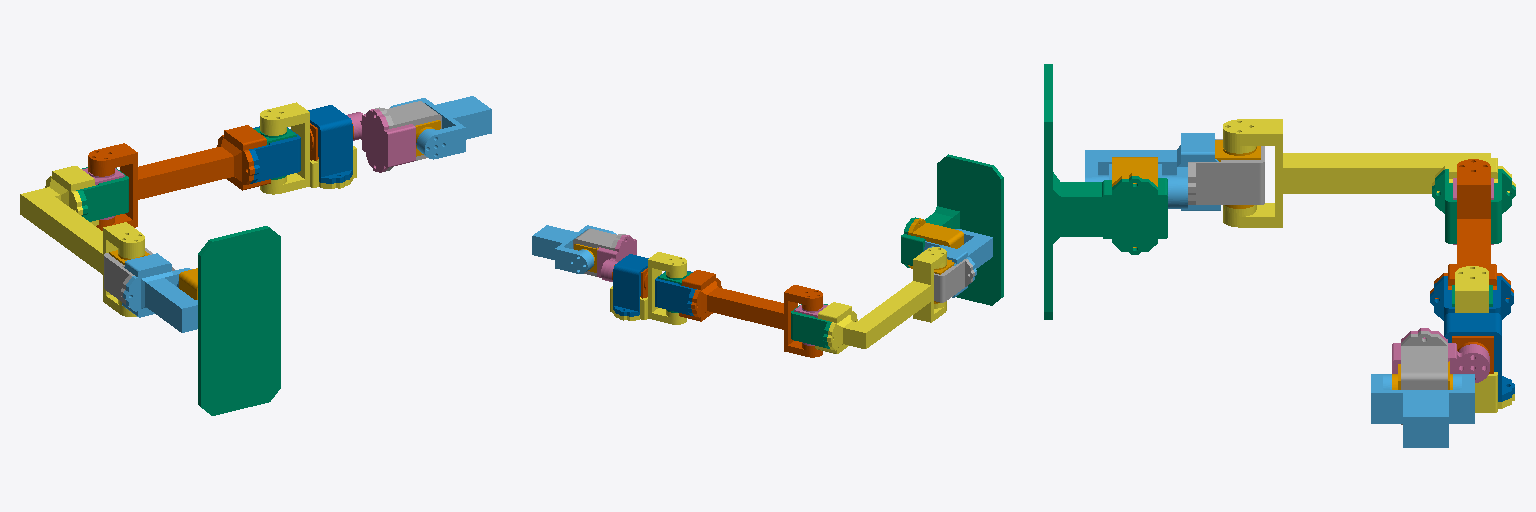
--- What the picture shows (computed from the rendered views, not written in the file) ---
The picture shows the robot from 3 angles, left to right: view 1: azimuth 30°, elevation 25°; view 2: azimuth 150°, elevation 25°; view 3: azimuth 270°, elevation 25°; orthographic projection.
Model V0.01 with 19 links and 18 joints (6 revolute, 12 fixed), rooted at 1-clamp, posed every joint at zero.
Links seen in each view (by area): view 1: 1-holder, 4-holder, 3-holder, 2-holder, 7-horn, 5-holder, 6-holder, 5-clamp, 4-clamp, 3-clamp, 6-clamp, 2-clamp; view 2: 1-holder, 3-holder, 4-holder, 7-horn, 5-holder, 5-clamp, 2-holder, 2-clamp, 4-clamp, 3-clamp, 1-clamp, 6-holder (+1 smaller); view 3: 3-holder, 1-holder, 7-horn, 4-holder, 2-holder, 2-clamp, 6-clamp, 5-holder, 3-clamp, 5-clamp, 6-holder, 4-clamp (+3 smaller).
Link boxes in pixels (x1,y1,x2,y2): 1-holder: (198,226,280,415); 4-holder: (88,125,270,230); 3-holder: (20,166,144,316); 2-holder: (122,253,197,332); 7-horn: (390,96,491,159); 5-holder: (260,102,356,194); 6-holder: (347,109,415,172); 5-clamp: (308,105,352,183); 4-clamp: (249,126,300,183); 3-clamp: (76,167,128,221); 6-clamp: (375,101,441,171); 2-clamp: (104,248,174,307); 1-holder: (901,154,1003,305); 3-holder: (815,247,946,353); 4-holder: (679,270,822,357); 7-horn: (532,225,616,273); 5-holder: (610,252,686,324); 5-clamp: (613,254,648,316); 2-holder: (919,229,992,297); 2-clamp: (934,259,974,302); 4-clamp: (655,271,696,315); 3-clamp: (791,304,831,348); 1-clamp: (908,218,963,268); 6-holder: (597,235,636,281); 3-holder: (1223,119,1515,227); 1-holder: (1044,64,1167,319); 7-horn: (1371,374,1474,447); 4-holder: (1430,159,1513,298); 2-holder: (1085,133,1220,210); 2-clamp: (1188,139,1264,204); 6-clamp: (1401,331,1447,424); 5-holder: (1455,266,1514,412); 3-clamp: (1432,169,1515,243); 5-clamp: (1444,313,1514,401); 6-holder: (1392,328,1489,382); 4-clamp: (1430,276,1513,320).
Bounding box of the posed robot: 0.3992 × 0.2844 × 0.1467 m (x, y, z).
Meshes: 19 distinct files referenced, 19 mesh visuals loaded (19 binary STL).

URDF robot description (V0.01):
<?xml version='1.0' encoding='utf-8'?>
<robot name="V0.01">
    <link name="1-clamp">
        <inertial>
            <origin xyz="-0.01011633177640657 0.01995 0.012349999999998097" rpy="0.0 0.0 0.0" />
            <mass value="0.09978554550837347" />
            <inertia ixx="2.8952195540493082e-05" iyy="4.515825456914321e-05" izz="2.8802758876856415e-05" ixy="-3.3881317890172014e-21" iyz="3.3881317890172014e-21" ixz="4.6095532989579024e-18" />
        </inertial>
        <visual name="1-clamp_visual">
            <origin xyz="0.0 0.0 0.0" rpy="0.0 0.0 0.0" />
            <geometry>
                <mesh filename="meshes/1-clamp.stl" scale="0.001 0.001 0.001" />
            </geometry>
        </visual>
        <collision name="1-clamp_collision">
            <origin xyz="0.0 0.0 0.0" rpy="0.0 0.0 0.0" />
            <geometry>
                <mesh filename="meshes/1-clamp.stl" scale="0.001 0.001 0.001" />
            </geometry>
        </collision>
    </link>
    <link name="1-servo">
        <inertial>
            <origin xyz="0.022668652600844448 0.013384817444929977 0.0" rpy="0.0 -0.0 0.0" />
            <mass value="0.3033412377430849" />
            <inertia ixx="4.4115613291432376e-05" iyy="6.884216194152031e-05" izz="8.178619368144822e-05" ixy="-9.243992458147531e-07" iyz="0.0" ixz="1.3552527156068805e-20" />
        </inertial>
        <visual name="1-servo_visual">
            <origin xyz="0.0275 0.03395 0.012350000000000002" rpy="3.141592653589793 -0.0 0.0" />
            <geometry>
                <mesh filename="meshes/1-servo.stl" scale="0.001 0.001 0.001" />
            </geometry>
        </visual>
        <collision name="1-servo_collision">
            <origin xyz="0.0275 0.03395 0.012350000000000002" rpy="3.141592653589793 -0.0 0.0" />
            <geometry>
                <mesh filename="meshes/1-servo.stl" scale="0.001 0.001 0.001" />
            </geometry>
        </collision>
    </link>
    <link name="3-clamp">
        <inertial>
            <origin xyz="0.026616328864181887 -0.025350002912221684 -3.9968028886505636e-16" rpy="0.0 -0.0 0.0" />
            <mass value="0.09978554550837337" />
            <inertia ixx="2.8952195540500082e-05" iyy="2.8802758876854575e-05" izz="4.515825456909064e-05" ixy="-3.333921680392926e-18" iyz="-1.1763593571467723e-17" ixz="6.037650848028653e-18" />
        </inertial>
        <visual name="3-clamp_visual">
            <origin xyz="-0.10805000291222866 -0.20816977708777668 -0.010500000447035276" rpy="7.771561172375865e-16 -2.113062989360782e-15 -1.5707963267948921" />
            <geometry>
                <mesh filename="meshes/3-clamp.stl" scale="0.001 0.001 0.001" />
            </geometry>
        </visual>
        <collision name="3-clamp_collision">
            <origin xyz="-0.10805000291222866 -0.20816977708777668 -0.010500000447035276" rpy="7.771561172375865e-16 -2.113062989360782e-15 -1.5707963267948921" />
            <geometry>
                <mesh filename="meshes/3-clamp.stl" scale="0.001 0.001 0.001" />
            </geometry>
        </collision>
    </link>
    <link name="3-holder">
        <inertial>
            <origin xyz="0.004904846659727005 0.08187908906454737 -0.01780984914393404" rpy="0.0 -0.0 0.0" />
            <mass value="0.6053159680782471" />
            <inertia ixx="0.0017174592546749384" iyy="0.00018649161391586877" izz="0.0017005174574323996" ixy="-0.00017713765140459125" iyz="9.229700061045416e-06" ixz="1.9297077568748627e-06" />
        </inertial>
        <visual name="3-holder_visual">
            <origin xyz="-0.0838348929122288 -0.041584887087776516 -0.02845000044703527" rpy="8.881784197000973e-16 -2.3496457565353582e-15 -1.5707963267948923" />
            <geometry>
                <mesh filename="meshes/3-holder.stl" scale="0.001 0.001 0.001" />
            </geometry>
        </visual>
        <collision name="3-holder_collision">
            <origin xyz="-0.0838348929122288 -0.041584887087776516 -0.02845000044703527" rpy="8.881784197000973e-16 -2.3496457565353582e-15 -1.5707963267948923" />
            <geometry>
                <mesh filename="meshes/3-holder.stl" scale="0.001 0.001 0.001" />
            </geometry>
        </collision>
    </link>
    <link name="4-clamp">
        <inertial>
            <origin xyz="0.02661633177641333 -0.02534999865889823 -2.2351743567128325e-10" rpy="0.0 -0.0 0.0" />
            <mass value="0.09978554550837349" />
            <inertia ixx="2.8952195540538246e-05" iyy="2.8802758876845993e-05" izz="4.5158254569134006e-05" ixy="2.2985086056692694e-17" iyz="-4.445228907190568e-18" ixz="-5.366800753803247e-18" />
        </inertial>
        <visual name="4-clamp_visual">
            <origin xyz="0.06296977417555906 0.1142500013411045 0.01055000022351817" rpy="-3.1415926535897896 2.886579864025275e-15 2.9999587652126956e-15" />
            <geometry>
                <mesh filename="meshes/4-clamp.stl" scale="0.001 0.001 0.001" />
            </geometry>
        </visual>
        <collision name="4-clamp_collision">
            <origin xyz="0.06296977417555906 0.1142500013411045 0.01055000022351817" rpy="-3.1415926535897896 2.886579864025275e-15 2.9999587652126956e-15" />
            <geometry>
                <mesh filename="meshes/4-clamp.stl" scale="0.001 0.001 0.001" />
            </geometry>
        </collision>
    </link>
    <link name="4-holder">
        <inertial>
            <origin xyz="0.06444860833955965 -0.00012847069117800203 -0.01774705175856157" rpy="0.0 -0.0 0.0" />
            <mass value="0.47983450816069384" />
            <inertia ixx="0.00012625064179755396" iyy="0.0010110873650053336" izz="0.0009404225454982436" ixy="3.6568094264055623e-06" iyz="-2.9105058382496587e-08" ixz="8.13322214573731e-06" />
        </inertial>
        <visual name="4-holder_visual">
            <origin xyz="0.1830848841755587 -0.14033489134110486 -0.028450000223518124" rpy="1.2722154311270206e-15 -1.2767564783188772e-15 -3.4995483853165215e-15" />
            <geometry>
                <mesh filename="meshes/4-holder.stl" scale="0.001 0.001 0.001" />
            </geometry>
        </visual>
        <collision name="4-holder_collision">
            <origin xyz="0.1830848841755587 -0.14033489134110486 -0.028450000223518124" rpy="1.2722154311270206e-15 -1.2767564783188772e-15 -3.4995483853165215e-15" />
            <geometry>
                <mesh filename="meshes/4-holder.stl" scale="0.001 0.001 0.001" />
            </geometry>
        </collision>
    </link>
    <link name="3-servo">
        <inertial>
            <origin xyz="0.013384817444929656 -2.9122199052267207e-09 0.022668655513069274" rpy="4.39573844726499e-93 -0.0 0.0" />
            <mass value="0.30334123774308486" />
            <inertia ixx="6.884216194145455e-05" iyy="8.178619368146925e-05" izz="4.411561329151388e-05" ixy="-3.8272336688738307e-17" iyz="3.7513395167998453e-17" ixz="-9.243992458164234e-07" />
        </inertial>
        <visual name="3-servo_visual">
            <origin xyz="0.0023499999999997347 -0.1829500029122266 0.14680000291222847" rpy="-1.570796326794897 5.021645928919806e-15 -1.5707963267948946" />
            <geometry>
                <mesh filename="meshes/3-servo.stl" scale="0.001 0.001 0.001" />
            </geometry>
        </visual>
        <collision name="3-servo_collision">
            <origin xyz="0.0023499999999997347 -0.1829500029122266 0.14680000291222847" rpy="-1.570796326794897 5.021645928919806e-15 -1.5707963267948946" />
            <geometry>
                <mesh filename="meshes/3-servo.stl" scale="0.001 0.001 0.001" />
            </geometry>
        </collision>
    </link>
    <link name="2-clamp">
        <inertial>
            <origin xyz="0.02534999551665167 0.026616331776406554 -2.2351748674154237e-10" rpy="0.0 -0.0 5.300260399008595e-96" />
            <mass value="0.09978554550837361" />
            <inertia ixx="2.8802758876891204e-05" iyy="2.895219554048233e-05" izz="4.5158254569179325e-05" ixy="-4.87890977618477e-18" iyz="-1.3552527156068805e-20" ixz="1.4907779871675686e-19" />
        </inertial>
        <visual name="2-clamp_visual">
            <origin xyz="0.06839999551665468 -0.05204999999999996 -0.012000000223517826" rpy="-7.855721281318744e-17 8.881784197001016e-16 -1.1584019516324405e-16" />
            <geometry>
                <mesh filename="meshes/2-clamp.stl" scale="0.001 0.001 0.001" />
            </geometry>
        </visual>
        <collision name="2-clamp_collision">
            <origin xyz="0.06839999551665468 -0.05204999999999996 -0.012000000223517826" rpy="-7.855721281318744e-17 8.881784197001016e-16 -1.1584019516324405e-16" />
            <geometry>
                <mesh filename="meshes/2-clamp.stl" scale="0.001 0.001 0.001" />
            </geometry>
        </collision>
    </link>
    <link name="2-servo">
        <inertial>
            <origin xyz="0.0133848172214125 -0.022668652600844476 4.48334644964632e-09" rpy="0.0 -0.0 0.0" />
            <mass value="0.303341237743085" />
            <inertia ixx="6.884216194161111e-05" iyy="4.4115613291402316e-05" izz="8.178619368153601e-05" ixy="9.243992458148683e-07" iyz="-2.168404344971009e-19" ixz="8.402566836762659e-19" />
        </inertial>
        <visual name="2-servo_visual">
            <origin xyz="0.0023499997764821565 -0.09680000000000012 -0.04294999551665474" rpy="-7.855721281318742e-17 1.5707963267948954 0" />
            <geometry>
                <mesh filename="meshes/2-servo.stl" scale="0.001 0.001 0.001" />
            </geometry>
        </visual>
        <collision name="2-servo_collision">
            <origin xyz="0.0023499997764821565 -0.09680000000000012 -0.04294999551665474" rpy="-7.855721281318742e-17 1.5707963267948954 0" />
            <geometry>
                <mesh filename="meshes/2-servo.stl" scale="0.001 0.001 0.001" />
            </geometry>
        </collision>
    </link>
    <link name="2-holder">
        <inertial>
            <origin xyz="-0.02324155945658018 8.85018176797292e-05 -0.011650988621288208" rpy="0.0 -0.0 0.0" />
            <mass value="0.32460683329419165" />
            <inertia ixx="0.00021745857967022915" iyy="0.0002559425379698605" izz="8.460393736434754e-05" ixy="1.4705050485426985e-07" iyz="-1.6269079107266083e-06" ixz="1.969093697167071e-05" />
        </inertial>
        <visual name="2-holder_visual">
            <origin xyz="0.014669775516654666 0.012000000223517722 -0.039700000000000034" rpy="1.5707963267948966 1.158401951632396e-16 -5.551115123125637e-17" />
            <geometry>
                <mesh filename="meshes/2-holder.stl" scale="0.001 0.001 0.001" />
            </geometry>
        </visual>
        <collision name="2-holder_collision">
            <origin xyz="0.014669775516654666 0.012000000223517722 -0.039700000000000034" rpy="1.5707963267948966 1.158401951632396e-16 -5.551115123125637e-17" />
            <geometry>
                <mesh filename="meshes/2-holder.stl" scale="0.001 0.001 0.001" />
            </geometry>
        </collision>
    </link>
    <link name="4-servo">
        <inertial>
            <origin xyz="-0.0226686526008381 -0.01338481766844729 -1.3410998533913698e-09" rpy="0.0 -0.0 0.0" />
            <mass value="0.303341237743085" />
            <inertia ixx="4.4115613291515615e-05" iyy="6.884216194150486e-05" izz="8.178619368142022e-05" ixy="-9.243992458312939e-07" iyz="2.656295322589486e-17" ixz="-5.0306980803327406e-17" />
        </inertial>
        <visual name="4-servo_visual">
            <origin xyz="0.019300000000009056 -0.0023500002235164936 -0.13905000134110426" rpy="1.5707963267949046 8.419475145046022e-16 -2.609024107869011e-15" />
            <geometry>
                <mesh filename="meshes/4-servo.stl" scale="0.001 0.001 0.001" />
            </geometry>
        </visual>
        <collision name="4-servo_collision">
            <origin xyz="0.019300000000009056 -0.0023500002235164936 -0.13905000134110426" rpy="1.5707963267949046 8.419475145046022e-16 -2.609024107869011e-15" />
            <geometry>
                <mesh filename="meshes/4-servo.stl" scale="0.001 0.001 0.001" />
            </geometry>
        </collision>
    </link>
    <link name="5-holder">
        <inertial>
            <origin xyz="0.025200986943076487 -0.00015906445619712884 -0.01026902702589766" rpy="0.0 -0.0 1.9446922743316064e-62" />
            <mass value="0.22663235669196308" />
            <inertia ixx="0.00013081580331984234" iyy="0.00020997897203484973" izz="0.0001161875623261095" ixy="7.533615649507608e-07" iyz="5.166496243413738e-07" ixz="-4.4235413830480164e-05" />
        </inertial>
        <visual name="5-holder_visual">
            <origin xyz="0.029999998658904303 0.1392500013411017 -0.00844999999999874" rpy="-3.141592653589786 3.3306690738753702e-15 4.1864152856486485e-16" />
            <geometry>
                <mesh filename="meshes/5-holder.stl" scale="0.001 0.001 0.001" />
            </geometry>
        </visual>
        <collision name="5-holder_collision">
            <origin xyz="0.029999998658904303 0.1392500013411017 -0.00844999999999874" rpy="-3.141592653589786 3.3306690738753702e-15 4.1864152856486485e-16" />
            <geometry>
                <mesh filename="meshes/5-holder.stl" scale="0.001 0.001 0.001" />
            </geometry>
        </collision>
    </link>
    <link name="5-clamp">
        <inertial>
            <origin xyz="0.026616332223443787 -0.025350001341104902 -4.483355517947985e-09" rpy="0.0 -0.0 0.0" />
            <mass value="0.09978554550837304" />
            <inertia ixx="2.89521955404385e-05" iyy="2.8802758876885458e-05" izz="4.5158254569147883e-05" ixy="-3.504683522559393e-17" iyz="8.066464163292153e-17" ixz="-2.813504637599884e-17" />
        </inertial>
        <visual name="5-clamp_visual">
            <origin xyz="0.01620000000000082 -0.1650000013411221 0.015770221341091357" rpy="1.7362303445243568e-14 1.5707963267948954 0" />
            <geometry>
                <mesh filename="meshes/5-clamp.stl" scale="0.001 0.001 0.001" />
            </geometry>
        </visual>
        <collision name="5-clamp_collision">
            <origin xyz="0.01620000000000082 -0.1650000013411221 0.015770221341091357" rpy="1.7362303445243568e-14 1.5707963267948954 0" />
            <geometry>
                <mesh filename="meshes/5-clamp.stl" scale="0.001 0.001 0.001" />
            </geometry>
        </collision>
    </link>
    <link name="5-servo">
        <inertial>
            <origin xyz="-0.013384812961574717 0.022668652153807988 -1.3411031929422279e-09" rpy="0.0 -3.9720831694007165e-93 0.0" />
            <mass value="0.3033412377430852" />
            <inertia ixx="6.884216194150312e-05" iyy="4.411561329124847e-05" izz="8.178619368153124e-05" ixy="9.243992457372936e-07" iyz="8.397145825900232e-17" ixz="-2.498001805406602e-16" />
        </inertial>
        <visual name="5-servo_visual">
            <origin xyz="-0.028749995516641143 0.027099999552964448 -0.14005000134112236" rpy="1.570796326794913 6.82626122840167e-16 -1.0547118733937622e-15" />
            <geometry>
                <mesh filename="meshes/5-servo.stl" scale="0.001 0.001 0.001" />
            </geometry>
        </visual>
        <collision name="5-servo_collision">
            <origin xyz="-0.028749995516641143 0.027099999552964448 -0.14005000134112236" rpy="1.570796326794913 6.82626122840167e-16 -1.0547118733937622e-15" />
            <geometry>
                <mesh filename="meshes/5-servo.stl" scale="0.001 0.001 0.001" />
            </geometry>
        </collision>
    </link>
    <link name="6-holder">
        <inertial>
            <origin xyz="-0.000620259399828007 0.022599496180974156 0.013086087178295323" rpy="3.068183415810975e-92 -0.0 0.0" />
            <mass value="0.11843555415743529" />
            <inertia ixx="4.1697596690029246e-05" iyy="2.17547368667418e-05" izz="4.958416643150061e-05" ixy="5.193143938311048e-07" iyz="-6.613169897994904e-06" ixz="1.5914304063328503e-07" />
        </inertial>
        <visual name="6-holder_visual">
            <origin xyz="0.13883488887593406 0.014100001564624876 -0.03436510842887326" rpy="1.5707963267949137 -1.570796326794895 0" />
            <geometry>
                <mesh filename="meshes/6-holder.stl" scale="0.001 0.001 0.001" />
            </geometry>
        </visual>
        <collision name="6-holder_collision">
            <origin xyz="0.13883488887593406 0.014100001564624876 -0.03436510842887326" rpy="1.5707963267949137 -1.570796326794895 0" />
            <geometry>
                <mesh filename="meshes/6-holder.stl" scale="0.001 0.001 0.001" />
            </geometry>
        </collision>
    </link>
    <link name="6-clamp">
        <inertial>
            <origin xyz="0.026616329171997605 -1.1175904290894323e-09 0.025349998875922212" rpy="0.0 -0.0 0.0" />
            <mass value="0.09978554550837294" />
            <inertia ixx="2.895219554050095e-05" iyy="4.51582545688391e-05" izz="2.8802758876780507e-05" ixy="1.734723475976807e-17" iyz="-3.04118709382184e-17" ixz="-1.0115606269289756e-16" />
        </inertial>
        <visual name="6-clamp_visual">
            <origin xyz="-0.046270228428885826 0.014699998435376784 0.16499999887595906" rpy="-1.570796326794886 4.99600361081174e-16 -2.680806523213026e-14" />
            <geometry>
                <mesh filename="meshes/6-clamp.stl" scale="0.001 0.001 0.001" />
            </geometry>
        </visual>
        <collision name="6-clamp_collision">
            <origin xyz="-0.046270228428885826 0.014699998435376784 0.16499999887595906" rpy="-1.570796326794886 4.99600361081174e-16 -2.680806523213026e-14" />
            <geometry>
                <mesh filename="meshes/6-clamp.stl" scale="0.001 0.001 0.001" />
            </geometry>
        </collision>
    </link>
    <link name="6-servo">
        <inertial>
            <origin xyz="-0.0226686552052567 1.1240793362787827e-09 0.013384816327338988" rpy="0.0 -0.0 0.0" />
            <mass value="0.3033412377430852" />
            <inertia ixx="4.411561329141153e-05" iyy="8.178619368123113e-05" izz="6.884216194048484e-05" ixy="3.2959746043559335e-16" iyz="1.102633609417758e-16" ixz="9.243992458735778e-07" />
        </inertial>
        <visual name="6-servo_visual">
            <origin xyz="-0.0918000026044378 -0.14004999887595984 0.03024999888241144" rpy="2.2982635136200886e-14 2.702317263721722e-14 1.4988010832435235e-15" />
            <geometry>
                <mesh filename="meshes/6-servo.stl" scale="0.001 0.001 0.001" />
            </geometry>
        </visual>
        <collision name="6-servo_collision">
            <origin xyz="-0.0918000026044378 -0.14004999887595984 0.03024999888241144" rpy="2.2982635136200886e-14 2.702317263721722e-14 1.4988010832435235e-15" />
            <geometry>
                <mesh filename="meshes/6-servo.stl" scale="0.001 0.001 0.001" />
            </geometry>
        </collision>
    </link>
    <link name="7-horn">
        <inertial>
            <origin xyz="0.028016893676572716 -0.02026136664877786 1.1296585067377407e-09" rpy="0.0 -0.0 0.0" />
            <mass value="0.28812146575896763" />
            <inertia ixx="9.648098395586939e-05" iyy="0.00011263347334324394" izz="0.00018954234620102706" ixy="1.9195329700461006e-06" iyz="-5.653879559433239e-15" ixz="4.505558158061861e-14" />
        </inertial>
        <visual name="7-horn_visual">
            <origin xyz="-0.07900000394551708 -0.03544999865888986 -0.13924999887592487" rpy="1.5707963267949032 -1.4988010832438895e-15 2.5641583126187996e-14" />
            <geometry>
                <mesh filename="meshes/7-horn.stl" scale="0.001 0.001 0.001" />
            </geometry>
        </visual>
        <collision name="7-horn_collision">
            <origin xyz="-0.07900000394551708 -0.03544999865888986 -0.13924999887592487" rpy="1.5707963267949032 -1.4988010832438895e-15 2.5641583126187996e-14" />
            <geometry>
                <mesh filename="meshes/7-horn.stl" scale="0.001 0.001 0.001" />
            </geometry>
        </collision>
    </link>
    <link name="1-holder">
        <inertial>
            <origin xyz="-0.021349999999999883 -0.041014448746961626 0.021574090412184478" rpy="0.0 -0.0 0.0" />
            <mass value="0.6280816514154953" />
            <inertia ixx="0.0005040491708915909" iyy="0.0009839230221836749" izz="0.0009513530034046948" ixy="-3.767602549387128e-18" iyz="0.00011962900425494654" ixz="7.386127300057499e-19" />
        </inertial>
        <visual name="1-holder_visual">
            <origin xyz="-0.0337 -0.019950000000000002 0.0165" rpy="-0.0 1.5707963267948966 0" />
            <geometry>
                <mesh filename="meshes/1-holder.stl" scale="0.001 0.001 0.001" />
            </geometry>
        </visual>
        <collision name="1-holder_collision">
            <origin xyz="-0.0337 -0.019950000000000002 0.0165" rpy="-0.0 1.5707963267948966 0" />
            <geometry>
                <mesh filename="meshes/1-holder.stl" scale="0.001 0.001 0.001" />
            </geometry>
        </collision>
    </link>
    <joint name="1-clamp_Rigid-1" type="fixed">
        <origin xyz="0.0165 0.019950000000000002 0.0337" rpy="-0.0 -1.5707963267948966 0" />
        <parent link="1-clamp" />
        <child link="1-holder" />
    </joint>
    <joint name="1-clamp_Rigid-2" type="fixed">
        <origin xyz="-0.0275 0.03395 0.012350000000000002" rpy="3.141592653589793 -0.0 0.0" />
        <parent link="1-clamp" />
        <child link="1-servo" />
    </joint>
    <joint name="1-servo_1-yaw" type="revolute">
        <origin xyz="0.013000000000000001 -0.005750000000000002 0.0" rpy="1.5707963267948966 -0.0 0.0" />
        <parent link="1-servo" />
        <child link="2-holder" />
        <axis xyz="0.0 0.0 1.0" />
        <limit lower="-1.570796" upper="1.570796" effort="1000000" velocity="1000000" />
    </joint>
    <joint name="2-holder_Rigid-4" type="fixed">
        <origin xyz="-0.05371022 0.0 0.0123" rpy="1.5707963267948966 4.3608013207788786e-33 6.162975822039155e-33" />
        <parent link="2-holder" />
        <child link="2-clamp" />
    </joint>
    <joint name="2-clamp_Rigid-5" type="fixed">
        <origin xyz="0.02535 0.044 -0.014000000000000002" rpy="1.7791258877055312e-34 -1.5707963267948966 0" />
        <parent link="2-clamp" />
        <child link="2-servo" />
    </joint>
    <joint name="3-holder_Rigid-7" type="fixed">
        <origin xyz="0.02416511 0.16658488999999999 -0.01790000000000004" rpy="-2.220446049250313e-16 1.972152263052531e-31 5.261630935975519e-31" />
        <parent link="3-holder" />
        <child link="3-clamp" />
    </joint>
    <joint name="3-clamp_Rigid-8" type="fixed">
        <origin xyz="0.044000000000000004 -0.02535 -0.013999999999999999" rpy="-5.470005157845276e-31 -1.5707963267948966 0" />
        <parent link="3-clamp" />
        <child link="3-servo" />
    </joint>
    <joint name="4-holder_Rigid-10" type="fixed">
        <origin xyz="0.11991510999999999 -0.026034889999999998 -0.017899999999999996" rpy="3.141592653589793 3.944304526105061e-31 9.04679294230822e-31" />
        <parent link="4-holder" />
        <child link="4-clamp" />
    </joint>
    <joint name="4-clamp_Rigid-11" type="fixed">
        <origin xyz="0.044000000000000004 -0.02535 0.013999999999999999" rpy="1.5707963267948966 3.944304526105059e-31 -3.257879004812441e-31" />
        <parent link="4-clamp" />
        <child link="4-servo" />
    </joint>
    <joint name="4-servo_4-pitch" type="revolute">
        <origin xyz="-0.013000000000000008 0.00575 0.0" rpy="-1.5707963267948966 4.721721744173088e-31 0.0" />
        <parent link="4-servo" />
        <child link="5-holder" />
        <axis xyz="-3.944304526105059e-31 7.395570986446986e-31 1.0" />
        <limit lower="-1.570796" upper="1.570796" effort="1000000" velocity="1000000" />
    </joint>
    <joint name="5-holder_Rigid-13" type="fixed">
        <origin xyz="0.04578022000000001 -0.025749999999999995 0.007850000000000001" rpy="3.141592653589793 1.5707963267948963 0" />
        <parent link="5-holder" />
        <child link="5-clamp" />
    </joint>
    <joint name="5-clamp_Rigid-14" type="fixed">
        <origin xyz="0.044000000000000004 -0.02535 -0.013999999999999986" rpy="-1.5707963267948966 1.5707963267948966 0" />
        <parent link="5-clamp" />
        <child link="5-servo" />
    </joint>
    <joint name="5-servo_5-roll" type="revolute">
        <origin xyz="0.0057500000000000285 0.013000000000000001 0.0" rpy="-1.5707963267948963 3.1554436208840472e-30 -1.5707963267948966" />
        <parent link="5-servo" />
        <child link="6-holder" />
        <axis xyz="0.0 2.2204460492502372e-16 1.0" />
        <limit lower="-1.570796" upper="1.570796" effort="1000000" velocity="1000000" />
    </joint>
    <joint name="6-holder_Rigid-16" type="fixed">
        <origin xyz="-0.026165110000000002 0.029350000000000022 0.011465119999999978" rpy="3.141592653589793 -1.5707963267948963 0" />
        <parent link="6-holder" />
        <child link="6-clamp" />
    </joint>
    <joint name="6-clamp_Rigid-17" type="fixed">
        <origin xyz="0.044000000000000025 -0.014000000000000021 0.02535" rpy="-1.5707963267948966 -1.2347103262258056e-30 1.9480294112644395e-60" />
        <parent link="6-clamp" />
        <child link="6-servo" />
    </joint>
    <joint name="6-servo_6-grip" type="revolute">
        <origin xyz="-0.013000000000000008 0.0 -0.005749999999999993" rpy="-1.5707963267948963 3.4702805965586234e-60 -2.1995516405939585e-30" />
        <parent link="6-servo" />
        <child link="7-horn" />
        <axis xyz="-0.0 1.0 -2.2204460492503136e-16" />
        <limit lower="-1.570796" upper="1.570796" effort="1000000" velocity="1000000" />
    </joint>
    <joint name="2-servo_2-pitch" type="revolute">
        <origin xyz="0.031150000000000004 -0.012999999999999989 0.0" rpy="2.220446049250313e-16 1.5707963267948966 0" />
        <parent link="2-servo" />
        <child link="3-holder" />
        <axis xyz="1.9721522630525295e-31 2.220446049250313e-16 1.0" />
        <limit lower="-1.570796" upper="1.570796" effort="1000000" velocity="1000000" />
    </joint>
    <joint name="3-servo_3-pitch" type="revolute">
        <origin xyz="0.031150000000000004 0.0 0.013000000000000003" rpy="2.2204460492503136e-16 1.5707963267948966 0" />
        <parent link="3-servo" />
        <child link="4-holder" />
        <axis xyz="3.944304526105059e-31 2.220446049250313e-16 1.0" />
        <limit lower="-1.570796" upper="1.570796" effort="1000000" velocity="1000000" />
    </joint>
</robot>
